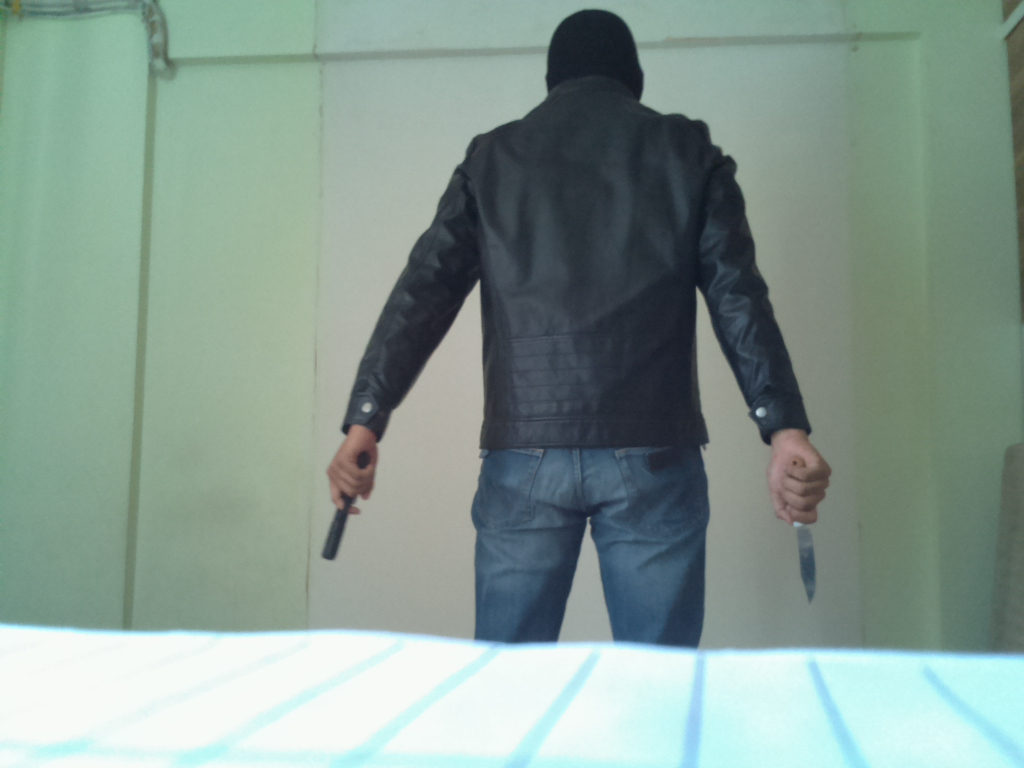gun: (319, 451, 373, 569)
knife: (782, 460, 820, 611)
